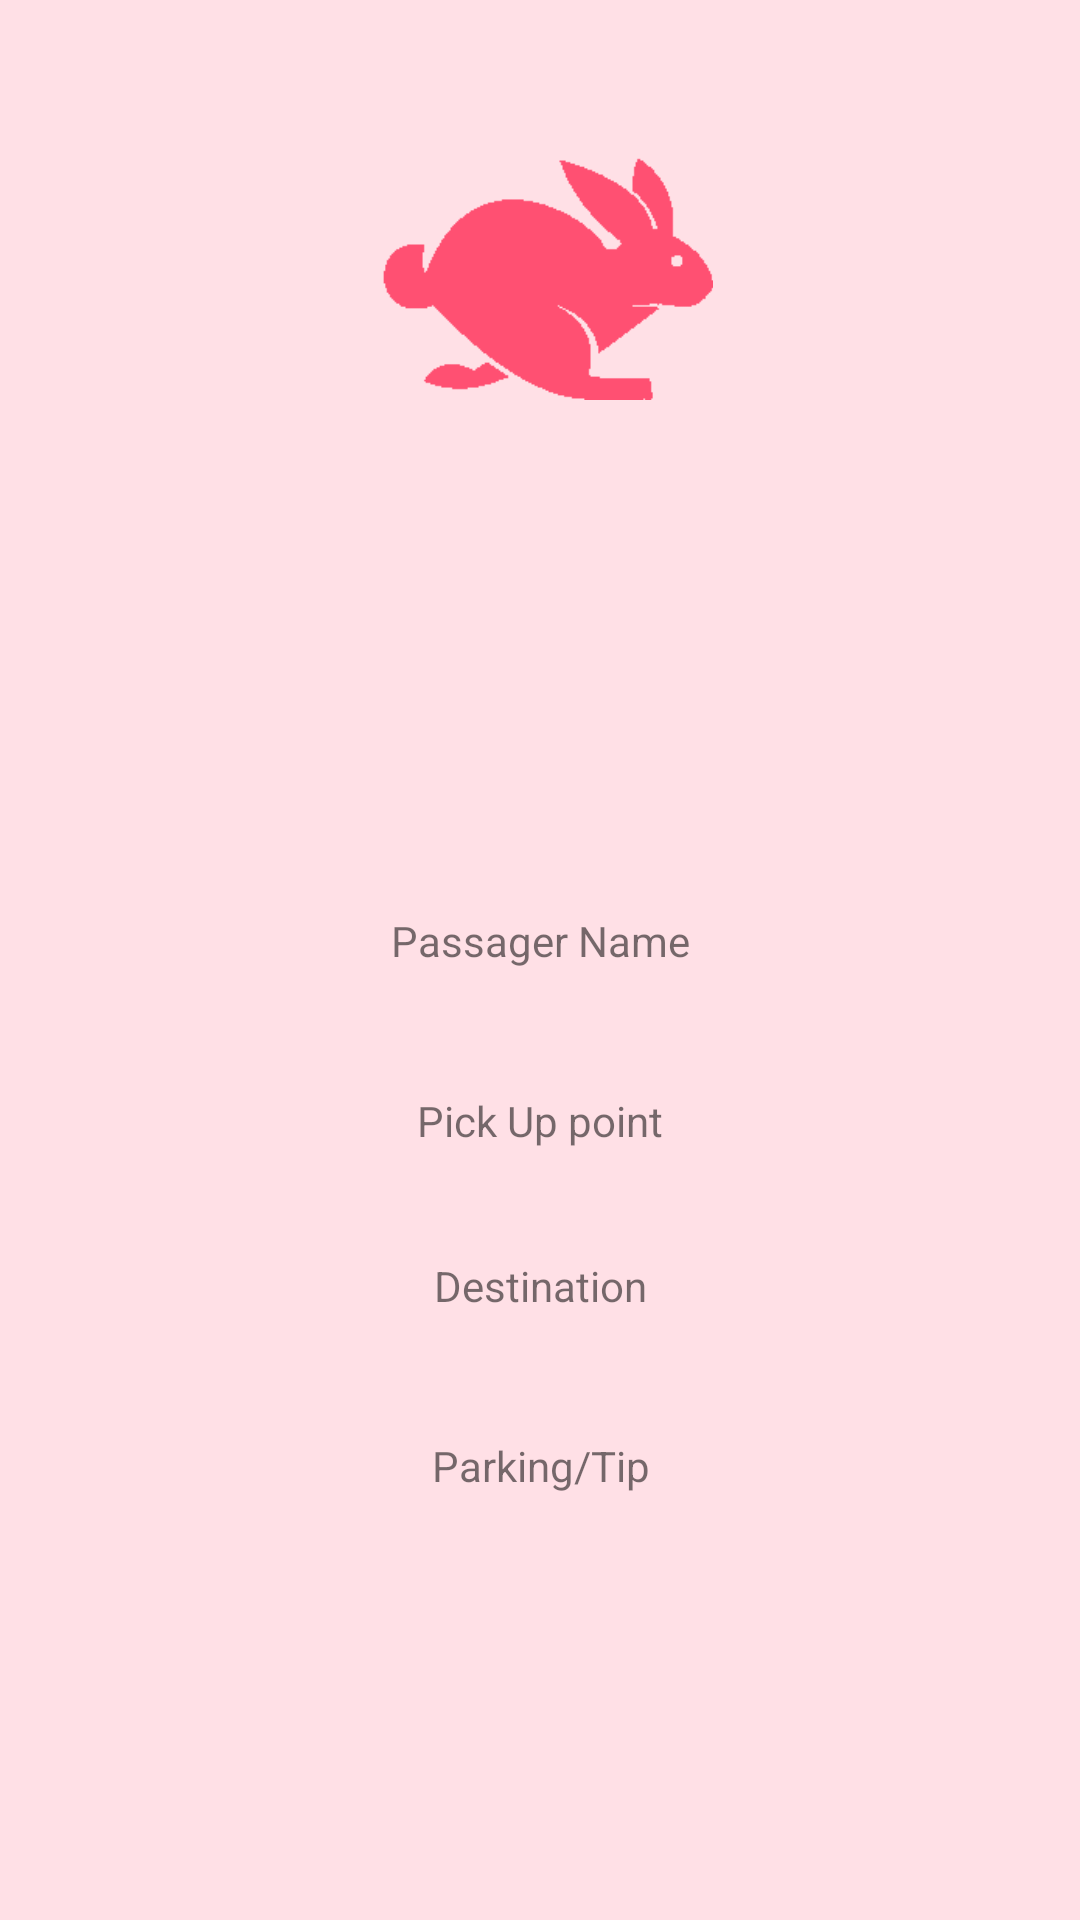

Screen size 1080w x 1920h. Icon name, then its center in pixels as (x=x, y=y):
pinkwabbit: (x=548, y=279)
